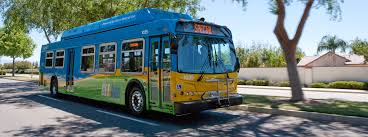bus: (39, 8, 243, 118)
